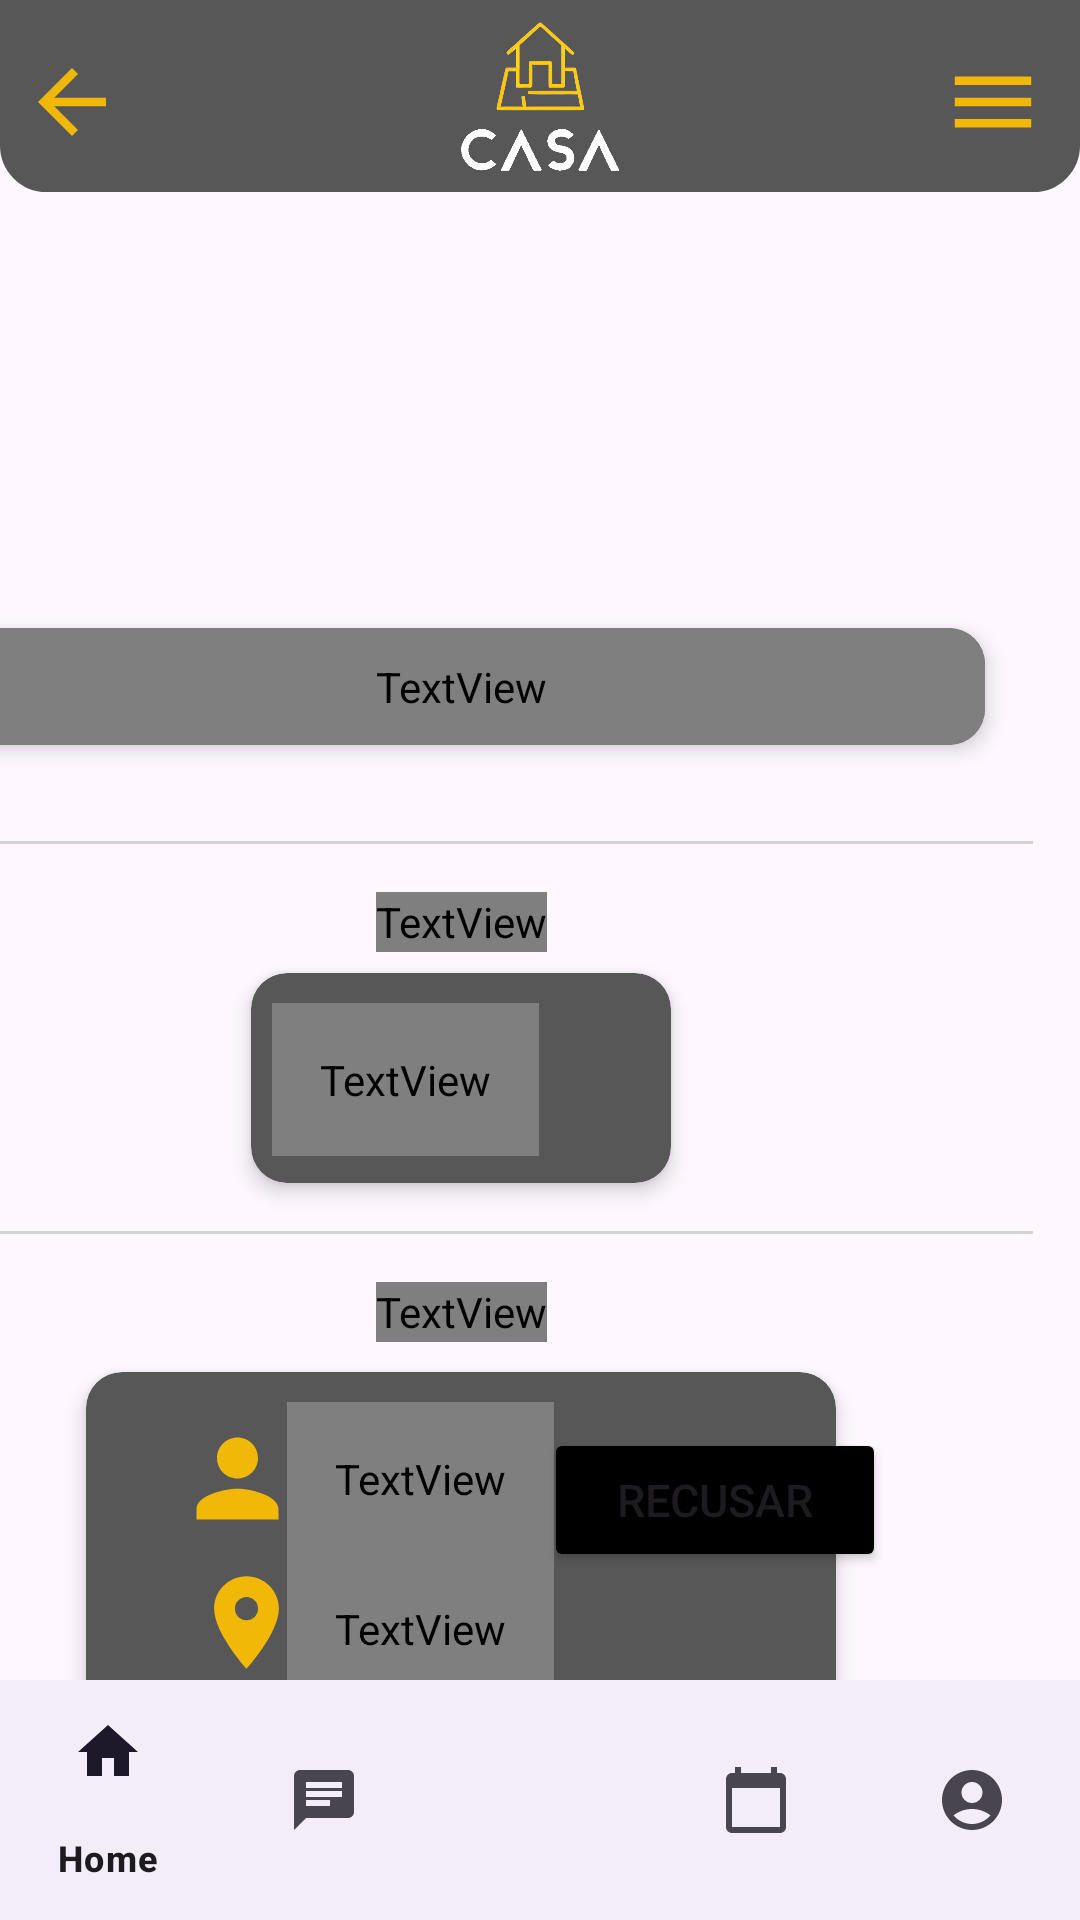

Named icons in this screenshot (1080*1920) and their centers, (x,y):
arrow back: (72,102)
local: (246,1622)
menu: (993,102)
person: (237,1478)
